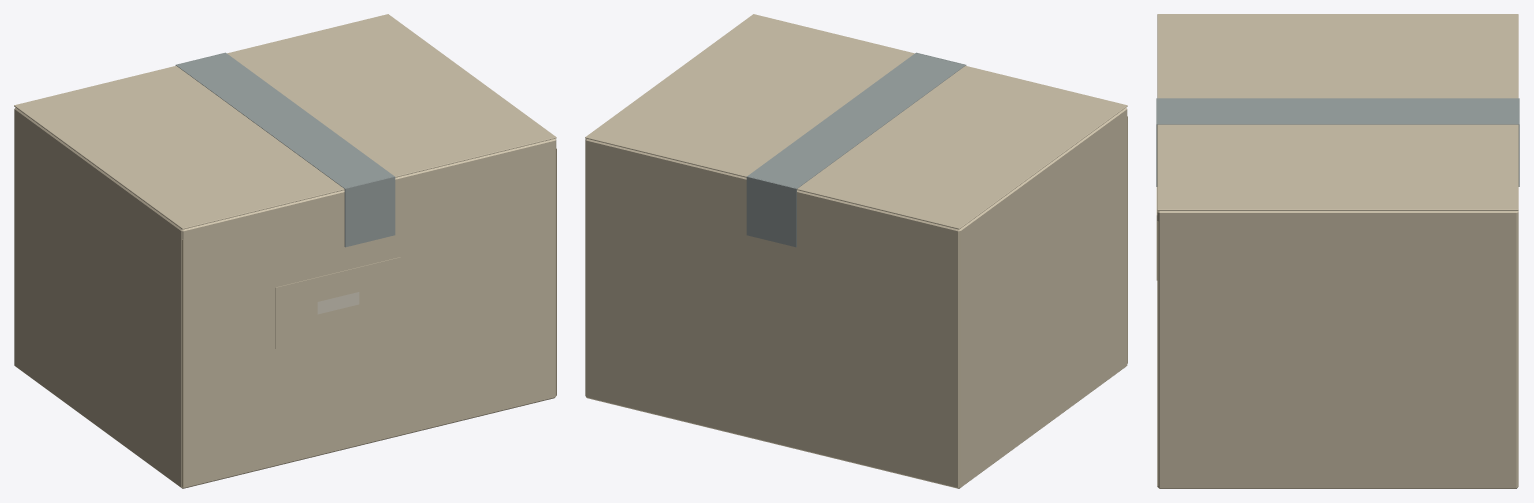
The model's file is cardboard-box-032b3727e0ff.glb.
The picture shows the model from 3 angles, left to right: view 1: azimuth 30°, elevation 25°; view 2: azimuth 150°, elevation 25°; view 3: azimuth 270°, elevation 25°; orthographic projection. The views are drawn at different scales.
Parts seen in each view (by area): view 1: paper, glass-clear, enamel-beige; view 2: paper, glass-clear; view 3: paper, glass-clear, enamel-beige.
Part boxes in pixels (x1=…): paper: x1=14, y1=14, x2=556, y2=488; glass-clear: x1=175, y1=52, x2=395, y2=247; enamel-beige: x1=182, y1=148, x2=556, y2=486; paper: x1=585, y1=14, x2=1127, y2=488; glass-clear: x1=746, y1=52, x2=966, y2=247; paper: x1=1156, y1=14, x2=1518, y2=488; glass-clear: x1=1156, y1=98, x2=1519, y2=186; enamel-beige: x1=1157, y1=221, x2=1158, y2=486.
Size of the model in its own units: 0.45 by 0.3 by 0.3523.
